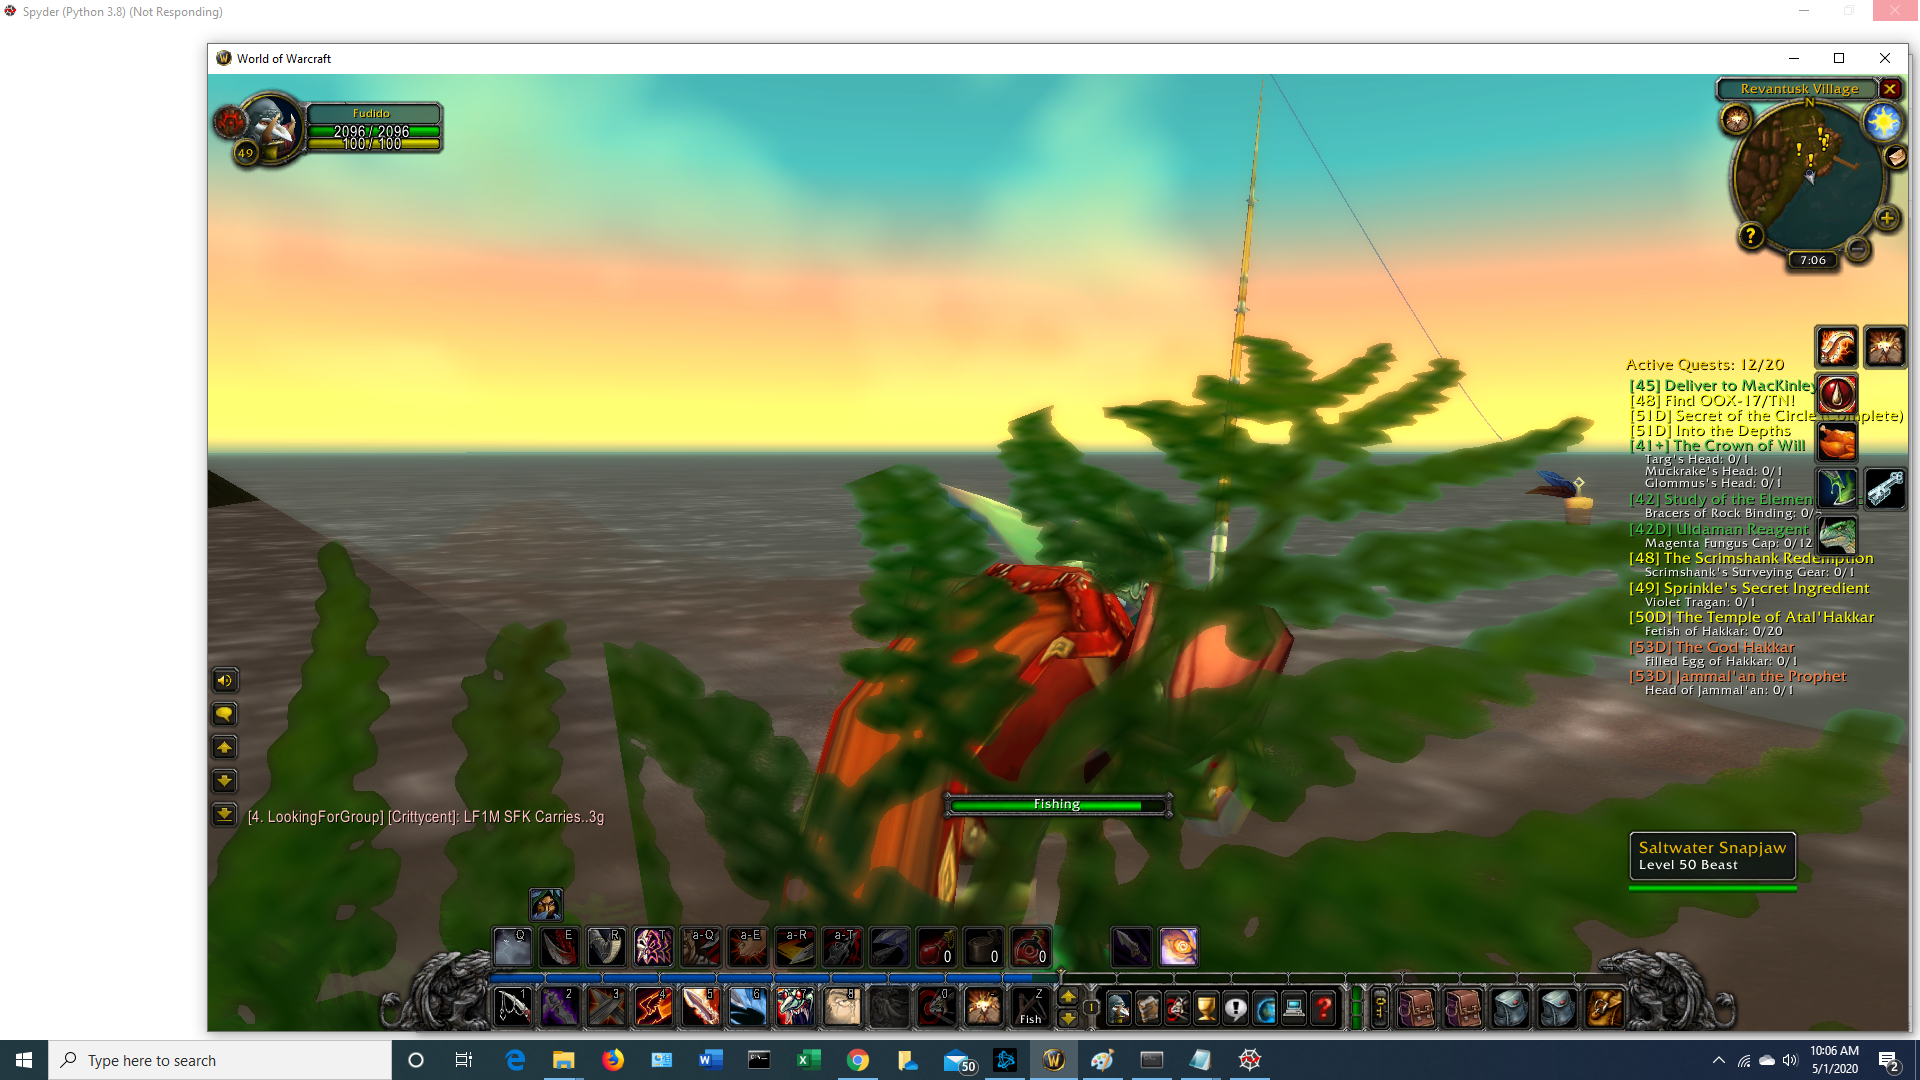bobble: (1524, 462, 1604, 526)
